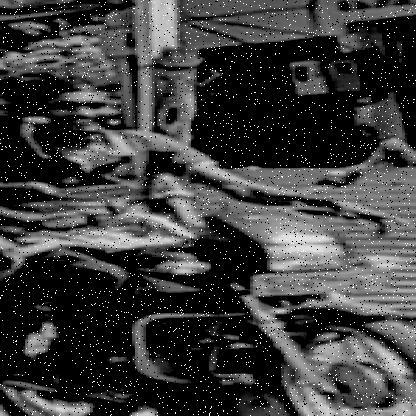motorcycle: (0, 199, 416, 416)
